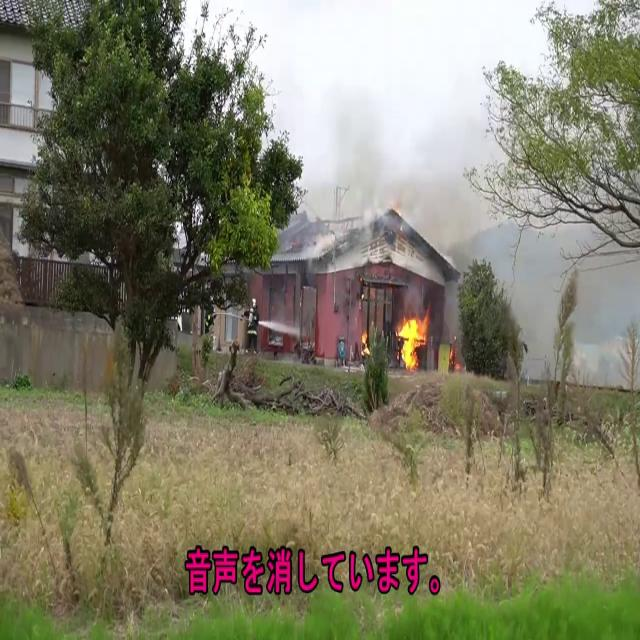Fire: (394, 307, 431, 369)
Smoke: (290, 11, 496, 273)
